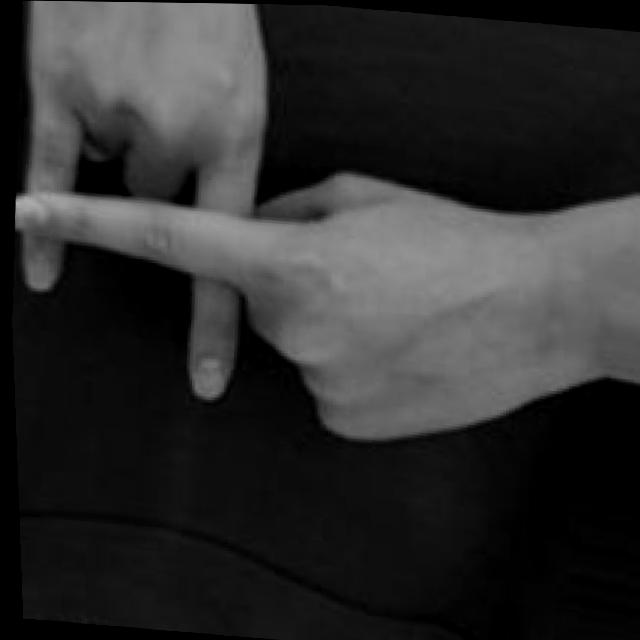H: (0, 0, 640, 465)
